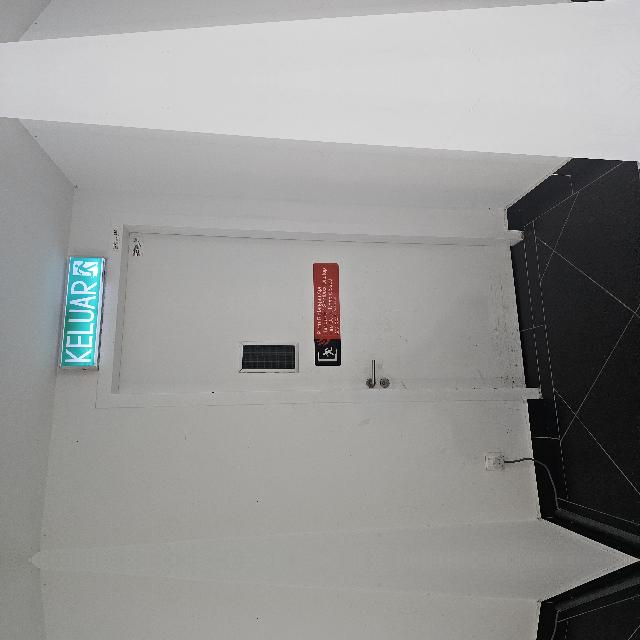door: (162, 192, 328, 610), (162, 509, 328, 640)
